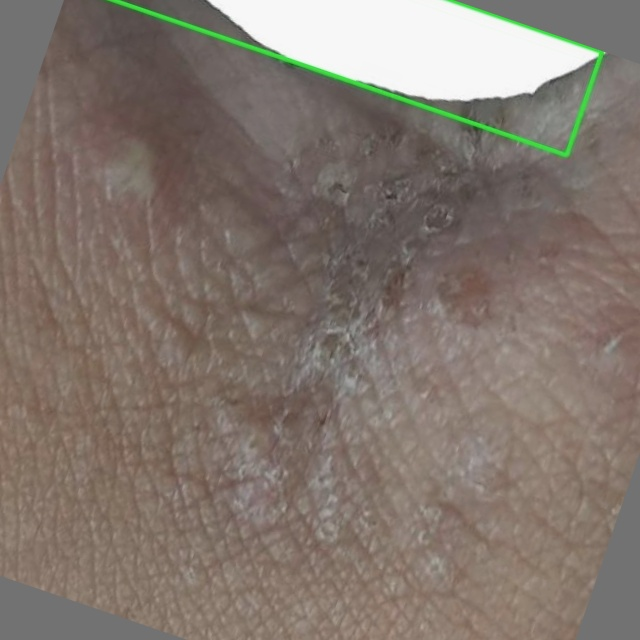Scabies: (114, 0, 601, 155)
